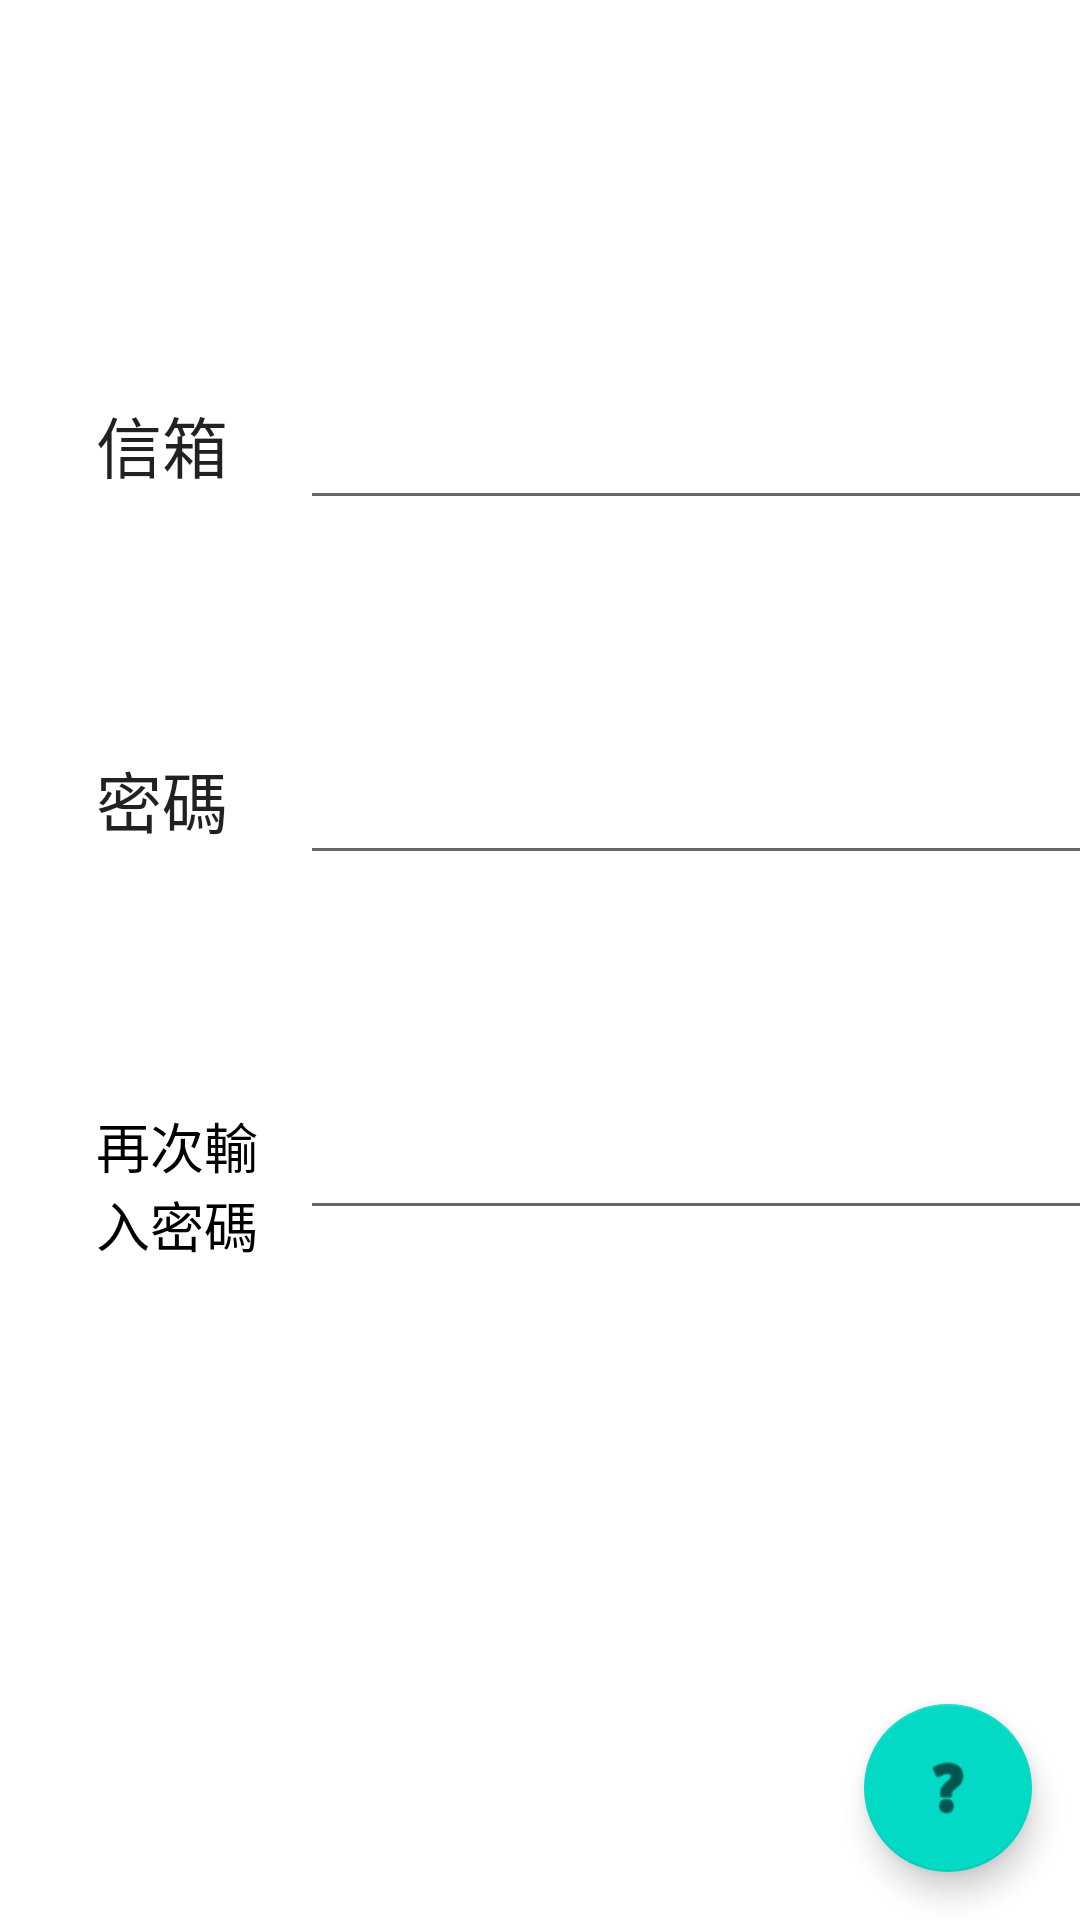

Screen size 1080 × 1920. Icon name, then its center in pixels as [x,y]:
helper: [948,1788]
